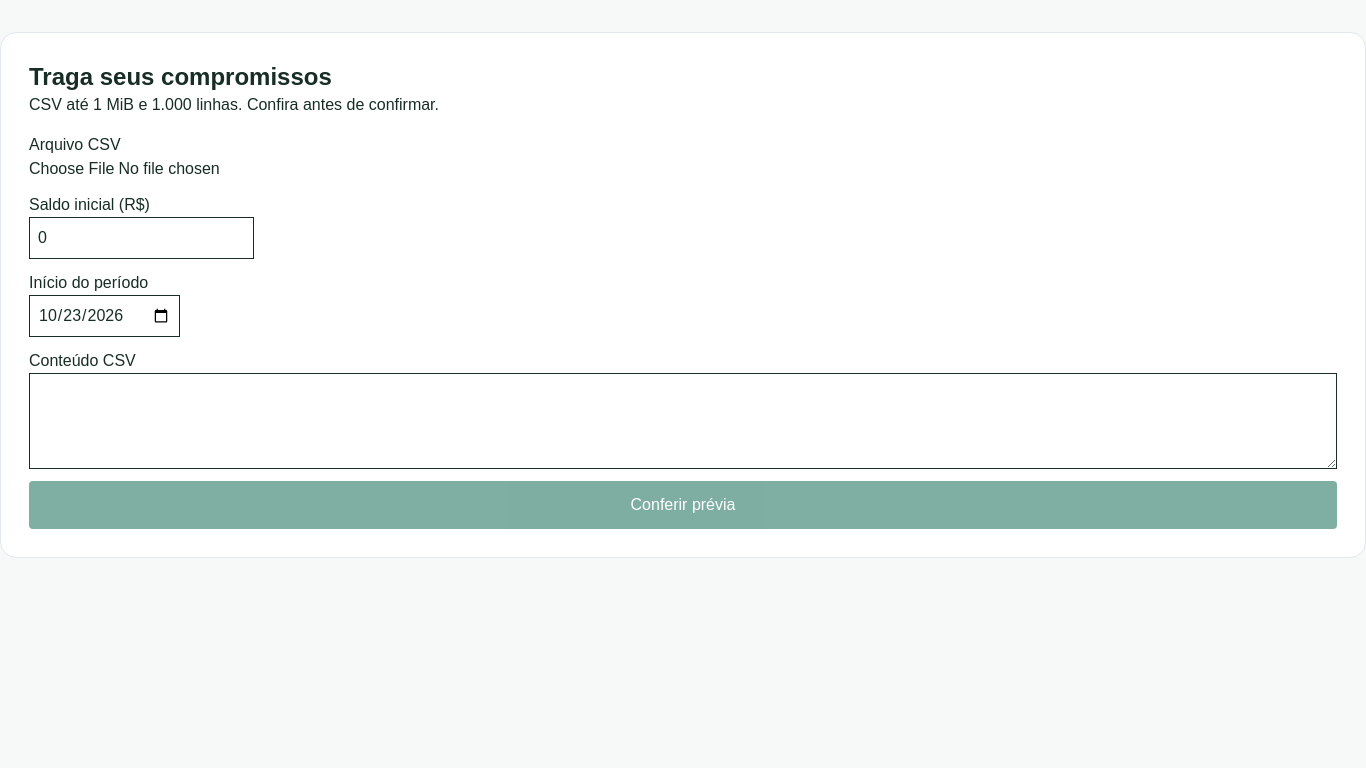
Test case: T16 DATA-01/02/03 › falha do mock não apresenta importação concluída
Type "abc" into the text box labelled "Conteúdo CSV".
click(683, 421); type("abc")  # box x1=29 y1=373 x2=1337 y2=469
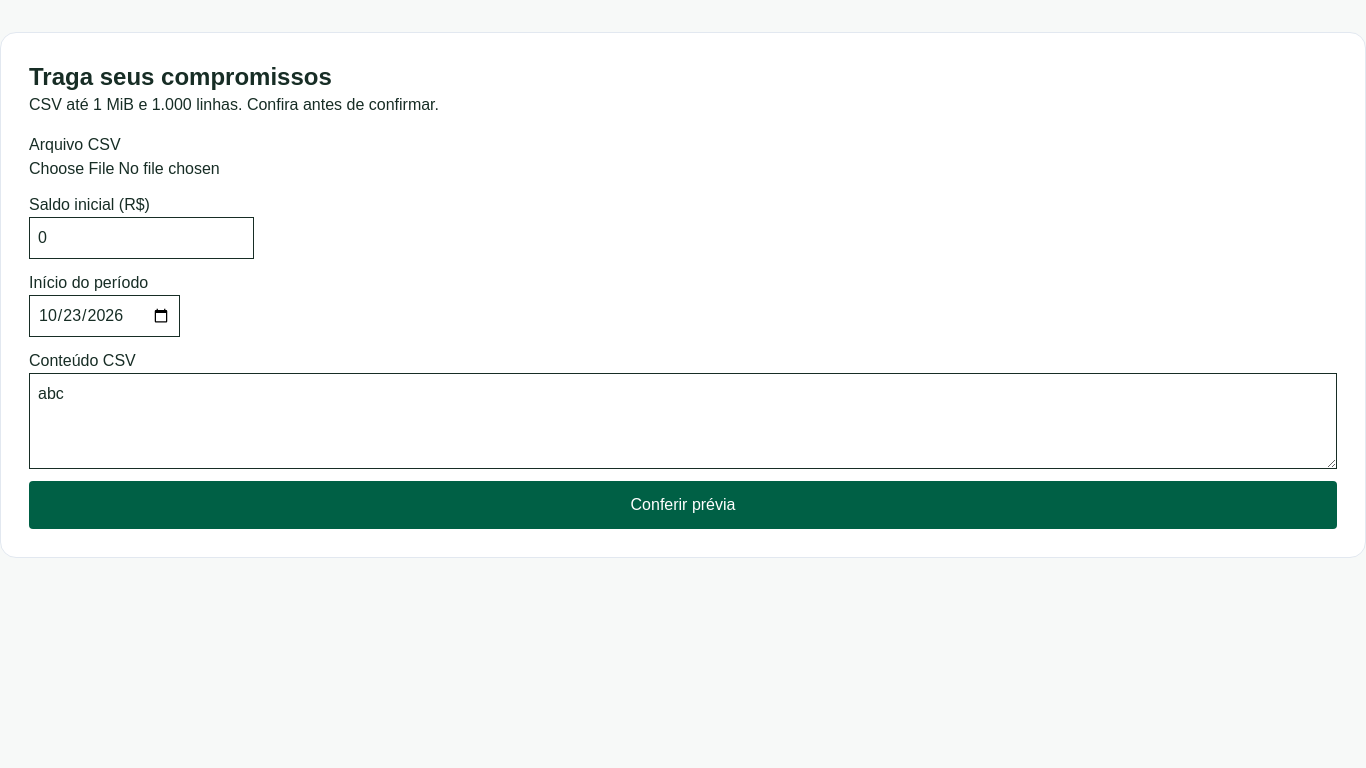
Click the button "Conferir prévia".
click(683, 505)  # box x1=29 y1=481 x2=1337 y2=529
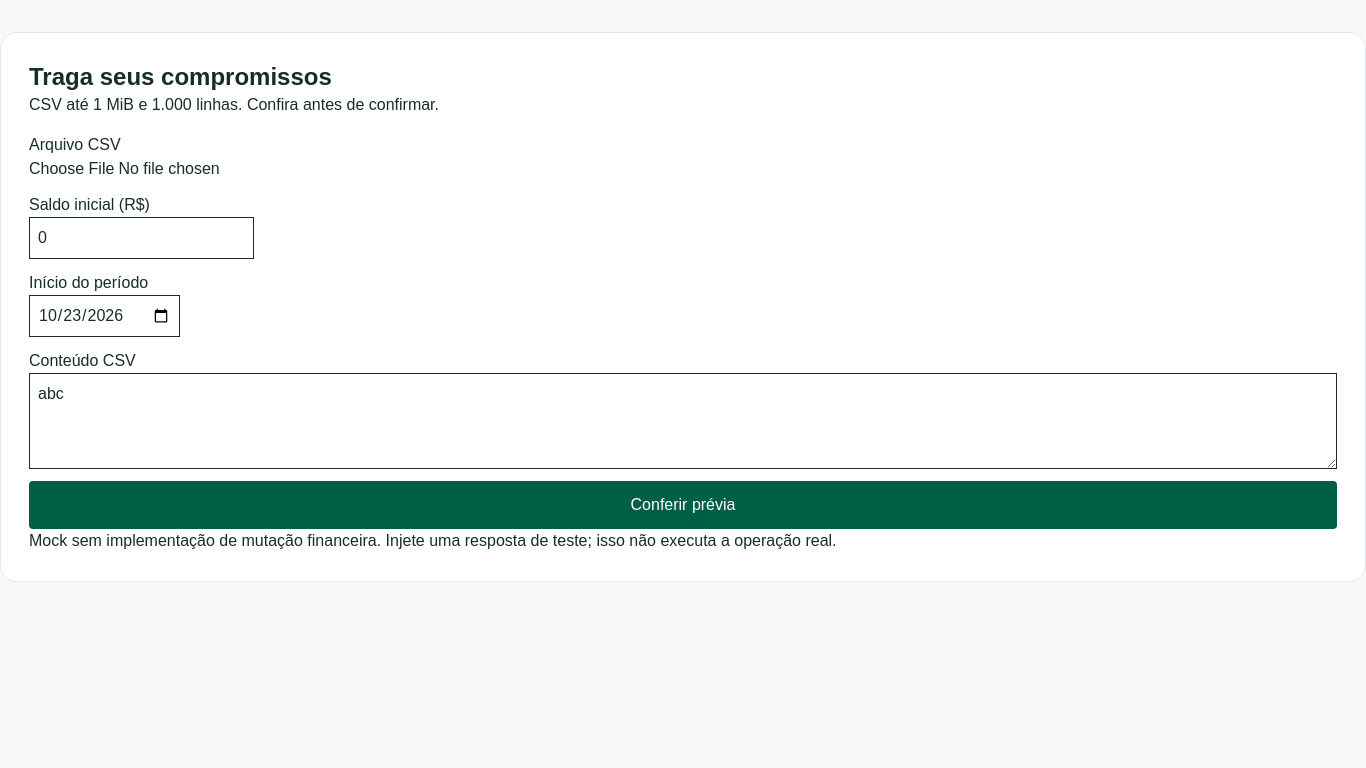
Expected: the message shows "Mock sem implementação", x1=29 y1=532 x2=837 y2=549
